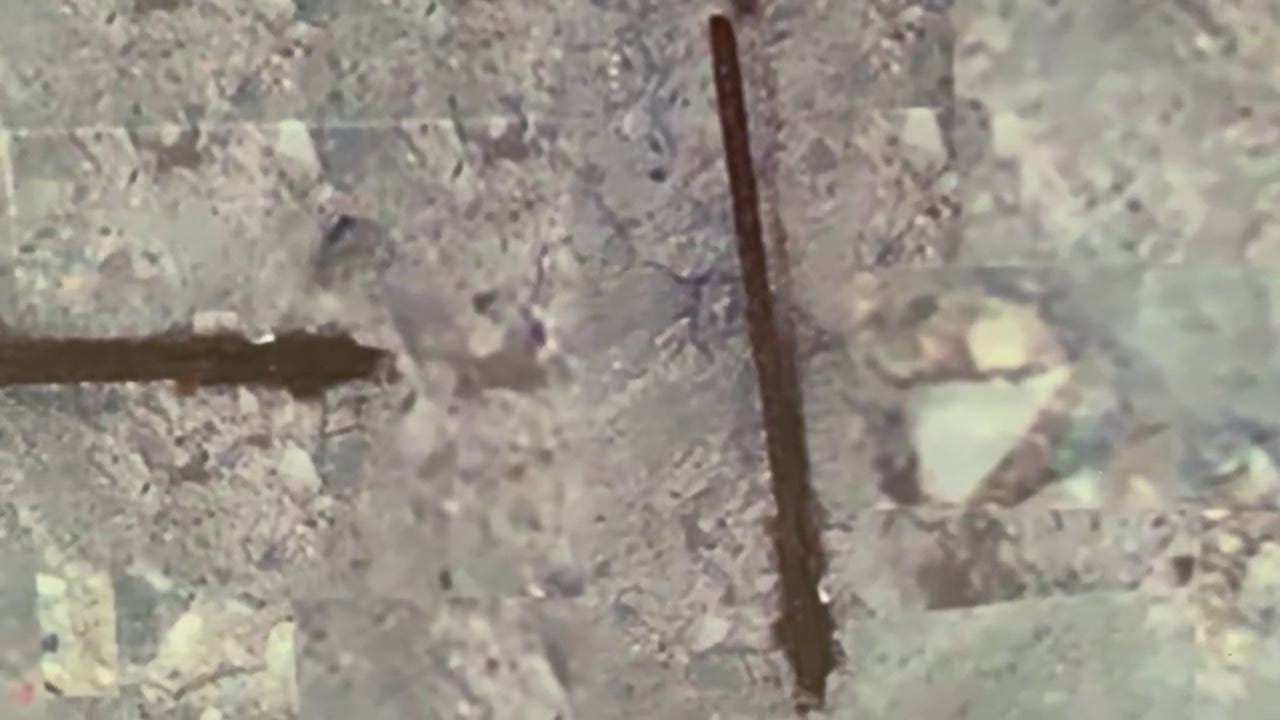Exposed reinforcement: (706, 12, 835, 720), (1, 321, 389, 400)
